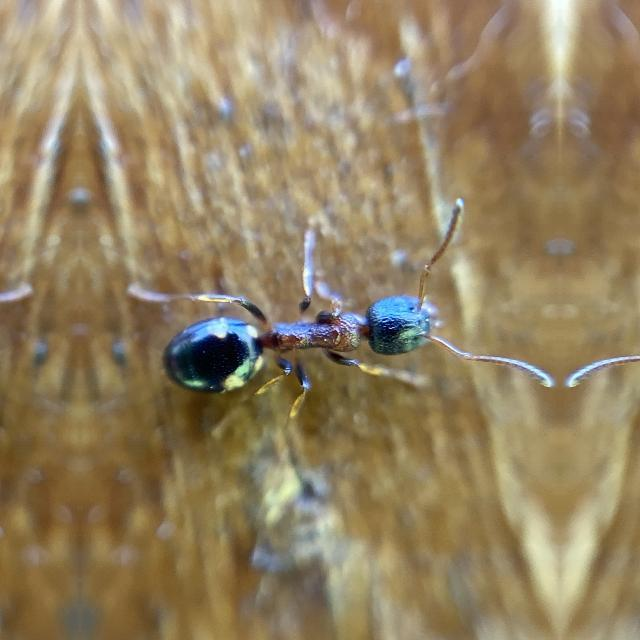Dolichoderus: (118, 209, 498, 455)
